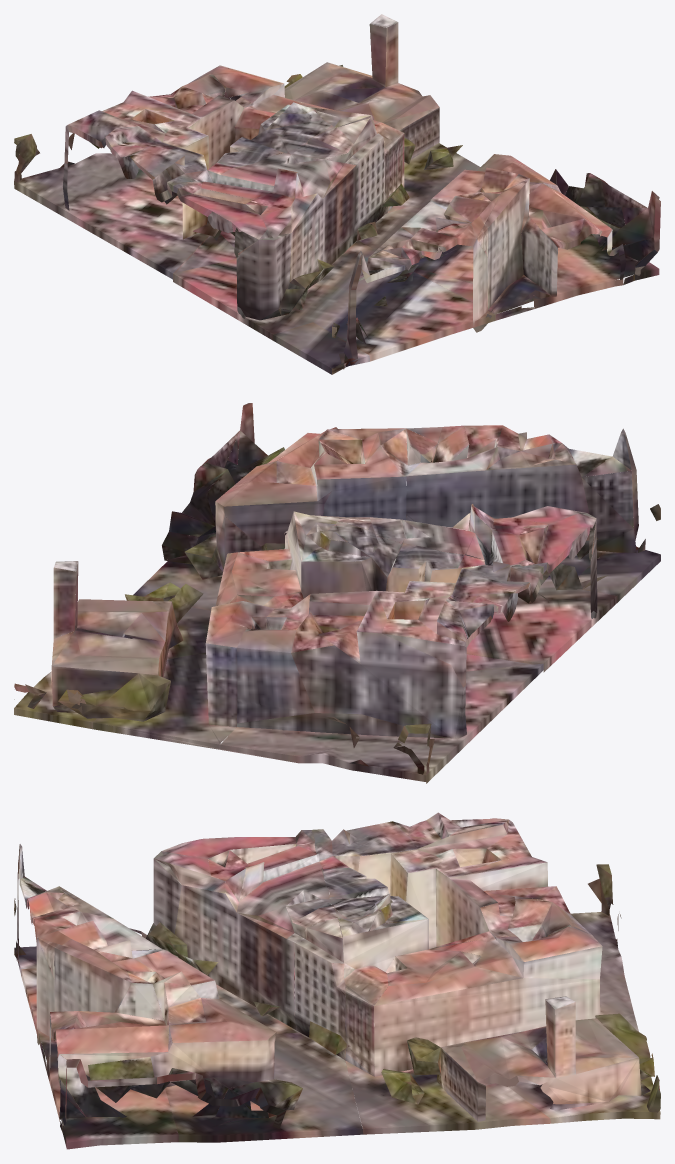
3 renders of one model, top to bottom at view 1: azimuth 30°, elevation 25°; view 2: azimuth 150°, elevation 25°; view 3: azimuth 270°, elevation 25°, orthographic. The views are drawn at different scales.
Visible parts, largest first — view 1: Mesh_0; view 2: Mesh_0; view 3: Mesh_0.
Part boxes in pixels (x1=…): Mesh_0: x1=14, y1=14, x2=660, y2=374; Mesh_0: x1=14, y1=403, x2=660, y2=783; Mesh_0: x1=14, y1=812, x2=660, y2=1149.
Size of the model in its own units: 134 by 38.31 by 165.
2 materials, 2 textured.
